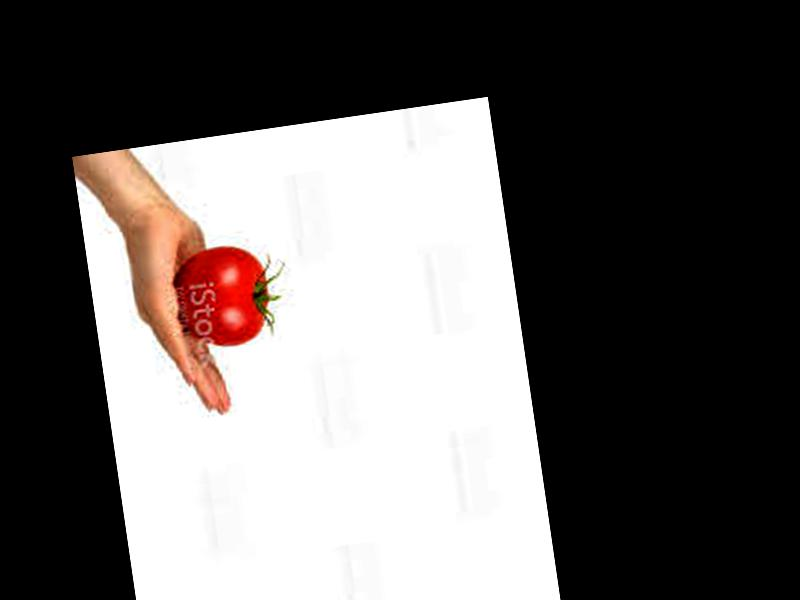Tomato: (171, 240, 276, 350)
